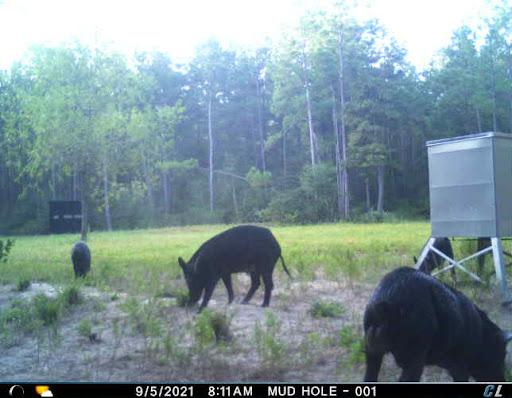Hog: (353, 263, 512, 383), (173, 221, 290, 309), (413, 235, 461, 278), (66, 239, 97, 285)
